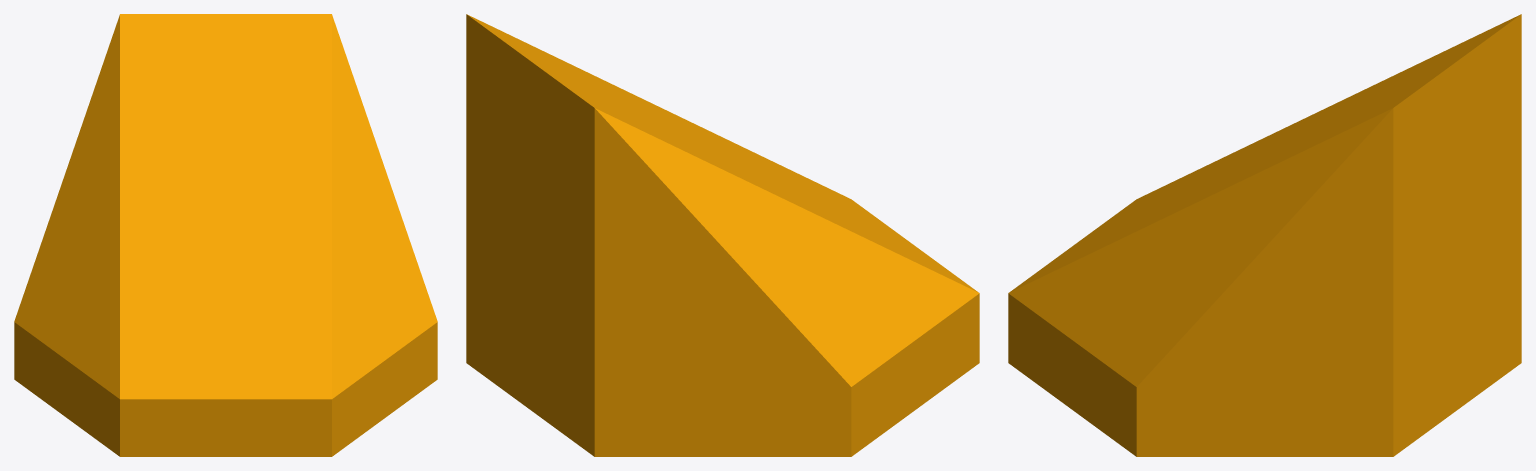
The model's file is sand_tile2.glb.
3 renders of one model, left to right at view 1: azimuth 30°, elevation 25°; view 2: azimuth 150°, elevation 25°; view 3: azimuth 270°, elevation 25°, orthographic. The views are drawn at different scales.
Parts seen in each view (by area): view 1: SandStairTile-col; view 2: SandStairTile-col; view 3: SandStairTile-col.
Part boxes in pixels (x1=…): SandStairTile-col: x1=14, y1=14, x2=437, y2=456; SandStairTile-col: x1=466, y1=14, x2=979, y2=456; SandStairTile-col: x1=1008, y1=14, x2=1521, y2=456.
Bounding box in the file's own units: 1.73 × 1.5 × 2.
Materials: 2 (2 with a texture image).
